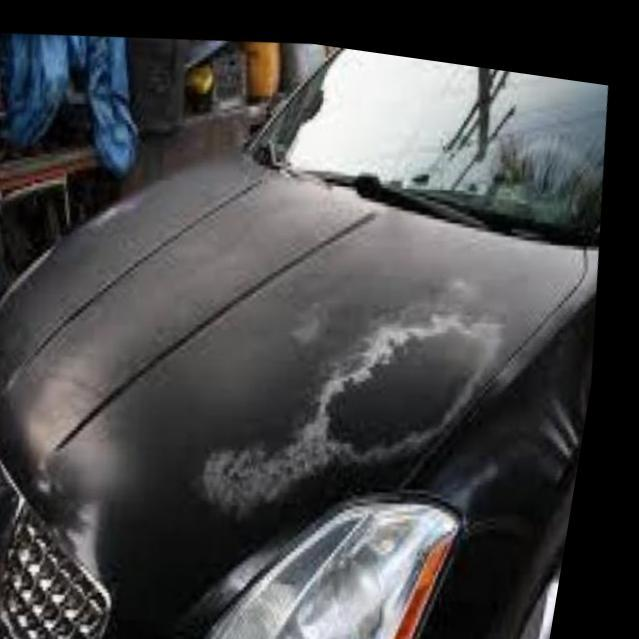rub: (215, 281, 518, 507)
